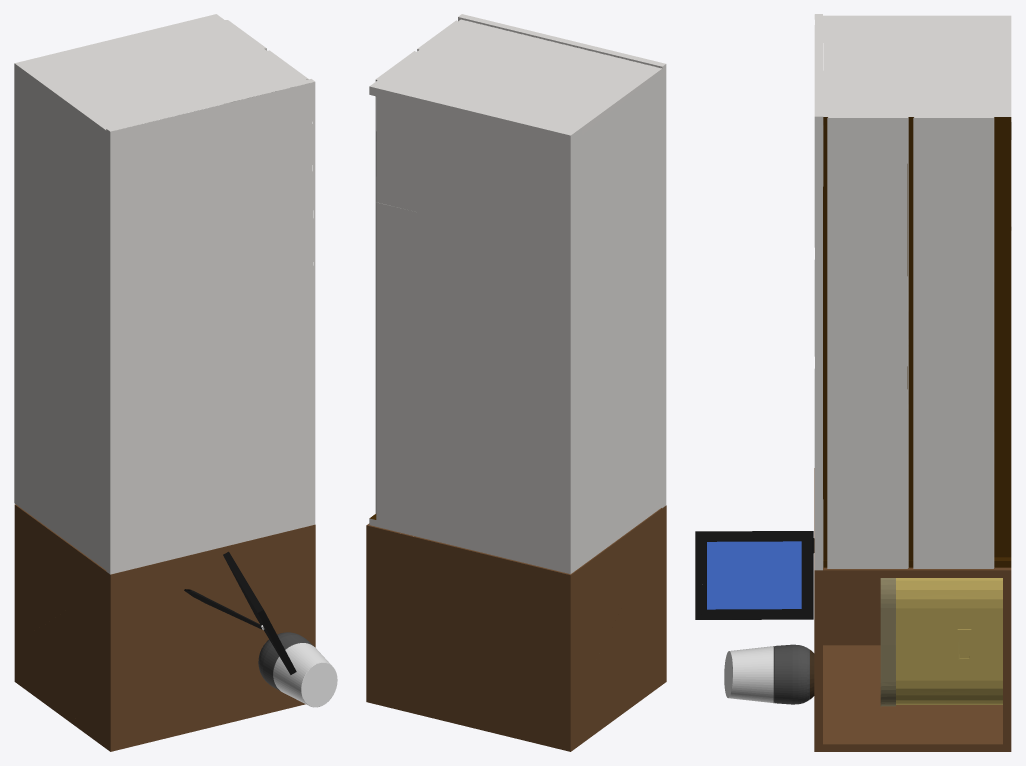
File: cred_uv.glb
3 renders of one model, left to right at view 1: azimuth 30°, elevation 25°; view 2: azimuth 150°, elevation 25°; view 3: azimuth 270°, elevation 25°, orthographic. The views are drawn at different scales.
Parts seen in each view (by area): view 1: Mesh_0, Mesh_1, Mesh_2, Mesh_3; view 2: Mesh_0, Mesh_1; view 3: Mesh_0, Mesh_1, Mesh_4, Mesh_3, Mesh_2.
Part boxes in pixels (<box>): Mesh_0: <box>14,14,315,574</box>; Mesh_1: <box>14,504,315,751</box>; Mesh_2: <box>258,632,337,707</box>; Mesh_3: <box>184,551,296,674</box>; Mesh_0: <box>369,14,666,574</box>; Mesh_1: <box>366,505,666,751</box>; Mesh_0: <box>814,14,1011,570</box>; Mesh_1: <box>814,468,1011,751</box>; Mesh_4: <box>880,578,1002,706</box>; Mesh_3: <box>695,531,814,619</box>; Mesh_2: <box>724,644,814,704</box>.
Size of the model in its own units: 0.39 by 1.13 by 0.5081.
